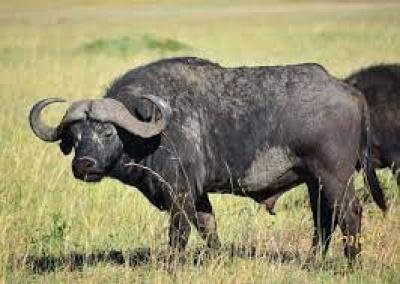buffalo: (28, 57, 400, 261)
